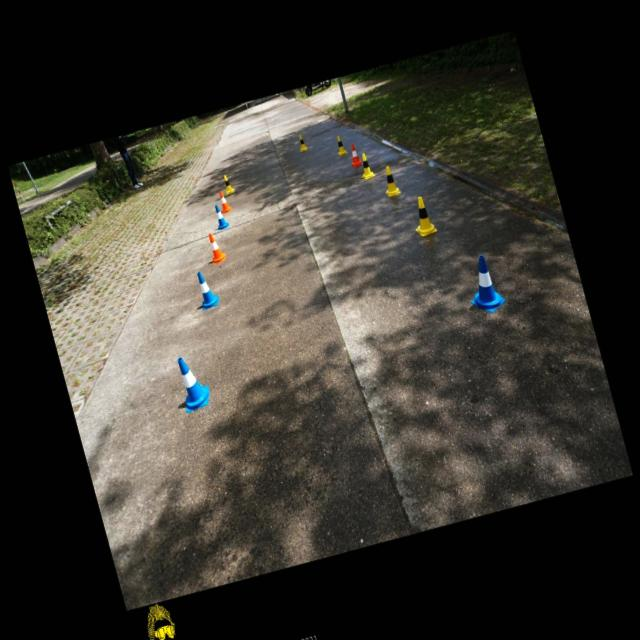blue_cone: (459, 252, 507, 316), (171, 352, 213, 412), (193, 268, 220, 310), (212, 203, 228, 230)
orange_cone: (204, 230, 226, 264), (347, 142, 362, 167), (216, 190, 231, 212)
yellow_cone: (407, 193, 438, 238), (378, 164, 401, 196), (356, 151, 376, 179), (220, 173, 235, 195), (334, 134, 346, 156), (296, 133, 308, 152)
